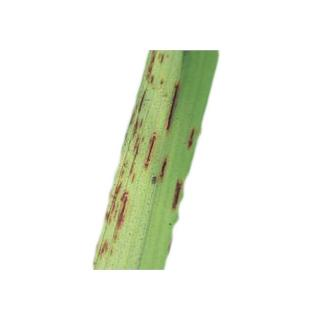Bercak-Cokelat-Sempit: (141, 51, 182, 186), (106, 182, 134, 236), (91, 242, 117, 267), (185, 121, 197, 156)
